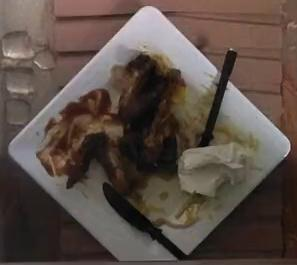chicken: (68, 54, 186, 192)
